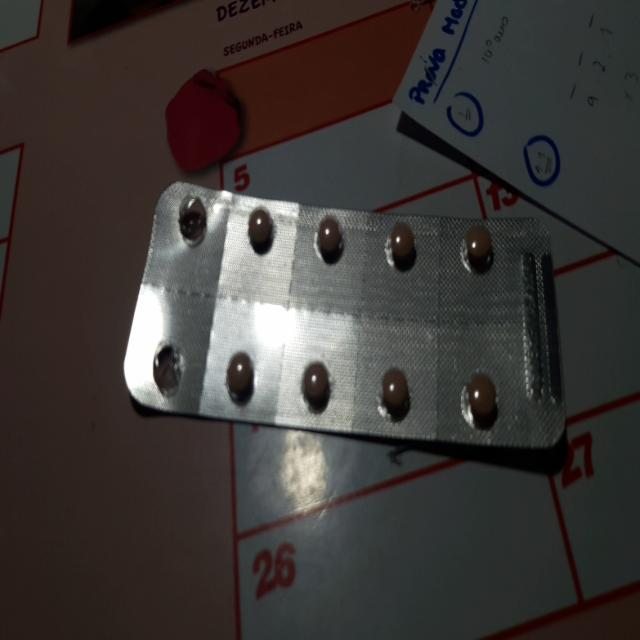Pill: (372, 352, 421, 432), (451, 220, 499, 296), (455, 364, 502, 440), (377, 214, 420, 294), (143, 334, 190, 404), (168, 184, 213, 256), (292, 348, 336, 420), (307, 208, 349, 276), (220, 344, 260, 410), (241, 202, 277, 262)
